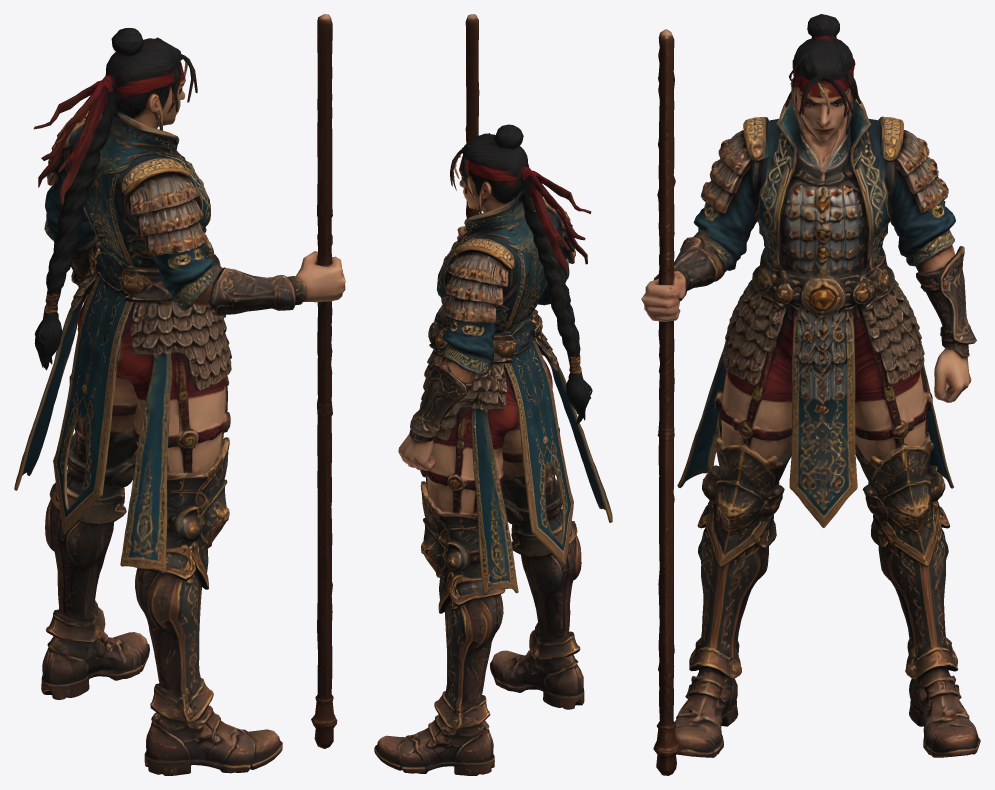
The model's file is vanguardalt-AmberRoad-tripo.glb.
The picture shows the model from 3 angles, left to right: view 1: azimuth 30°, elevation 25°; view 2: azimuth 150°, elevation 25°; view 3: azimuth 270°, elevation 25°; orthographic projection. The views are drawn at different scales.
Visible parts, largest first — view 1: tripo_node_da9221d8-7574-423b-b00c-908036814b6a; view 2: tripo_node_da9221d8-7574-423b-b00c-908036814b6a; view 3: tripo_node_da9221d8-7574-423b-b00c-908036814b6a.
Boxes of the visible parts, bbox=[...] form: tripo_node_da9221d8-7574-423b-b00c-908036814b6a: bbox=[14, 14, 345, 775]; tripo_node_da9221d8-7574-423b-b00c-908036814b6a: bbox=[374, 14, 612, 775]; tripo_node_da9221d8-7574-423b-b00c-908036814b6a: bbox=[641, 14, 980, 775].
Bounding box in the file's own units: 0.3238 × 1 × 0.4085.
Materials: 1 (1 with a texture image).
